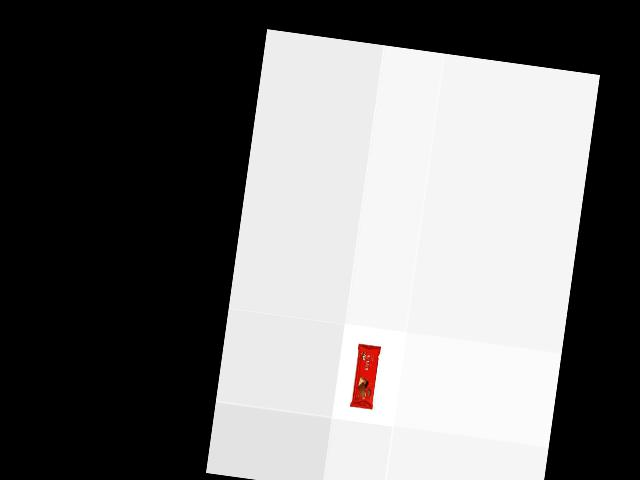chocolate: (350, 341, 382, 409)
